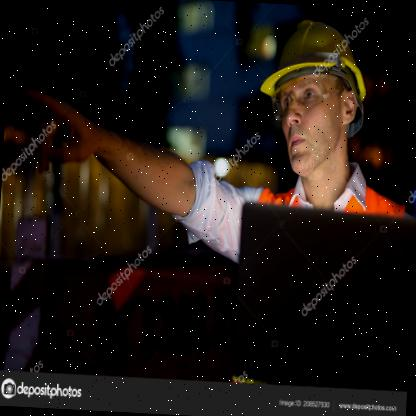capacete: (254, 10, 374, 184)
sem_colete_refletivo: (212, 172, 416, 332)
